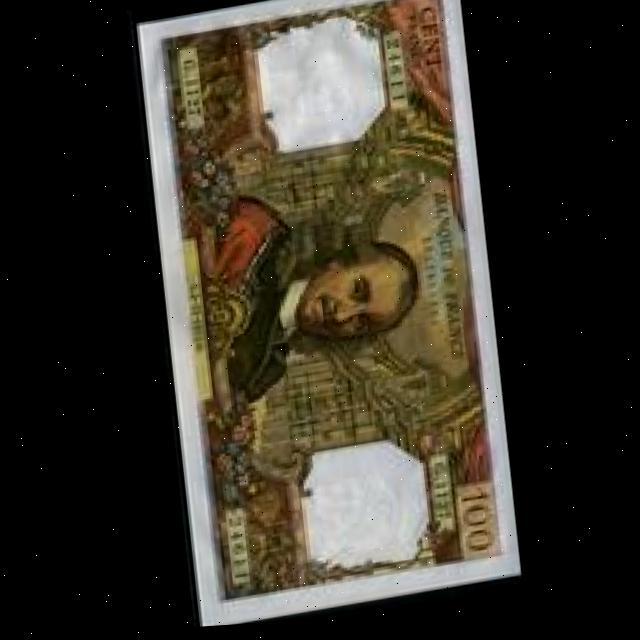banknote: (134, 0, 521, 633), (452, 491, 497, 566)
